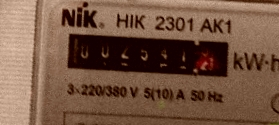0: (76, 38, 90, 60), (97, 37, 110, 59)
1: (176, 43, 188, 64)
2: (117, 39, 130, 60)
4: (157, 41, 170, 63)
5: (136, 40, 149, 62)
6: (197, 56, 209, 72)
screen: (55, 22, 240, 87)
